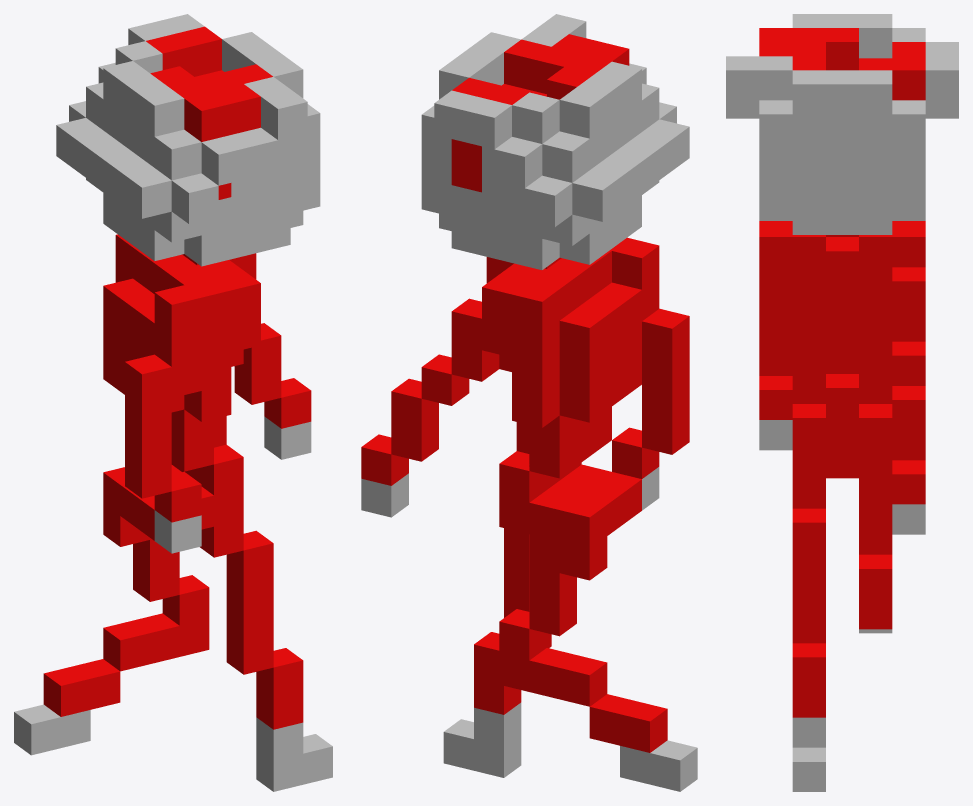
The model's file is walk_07.fbx.
3 renders of one model, left to right at view 1: azimuth 30°, elevation 25°; view 2: azimuth 150°, elevation 25°; view 3: azimuth 270°, elevation 25°, orthographic. The views are drawn at different scales.
Parts seen in each view (by area): view 1: Untitled, Untitled.002, Untitled.001; view 2: Untitled, Untitled.002, Untitled.001; view 3: Untitled, Untitled.002, Untitled.001.
Part boxes in pixels (x1,y1,x2,y2): Untitled: [43, 26, 311, 729]; Untitled.002: [14, 14, 332, 791]; Untitled.001: [103, 99, 320, 235]; Untitled: [361, 34, 689, 752]; Untitled.002: [361, 14, 697, 791]; Untitled.001: [421, 101, 641, 238]; Untitled: [759, 28, 925, 717]; Untitled.002: [726, 14, 958, 791]; Untitled.001: [759, 114, 925, 204].
Bounding box in the file's own units: 100 × 230 × 70.
